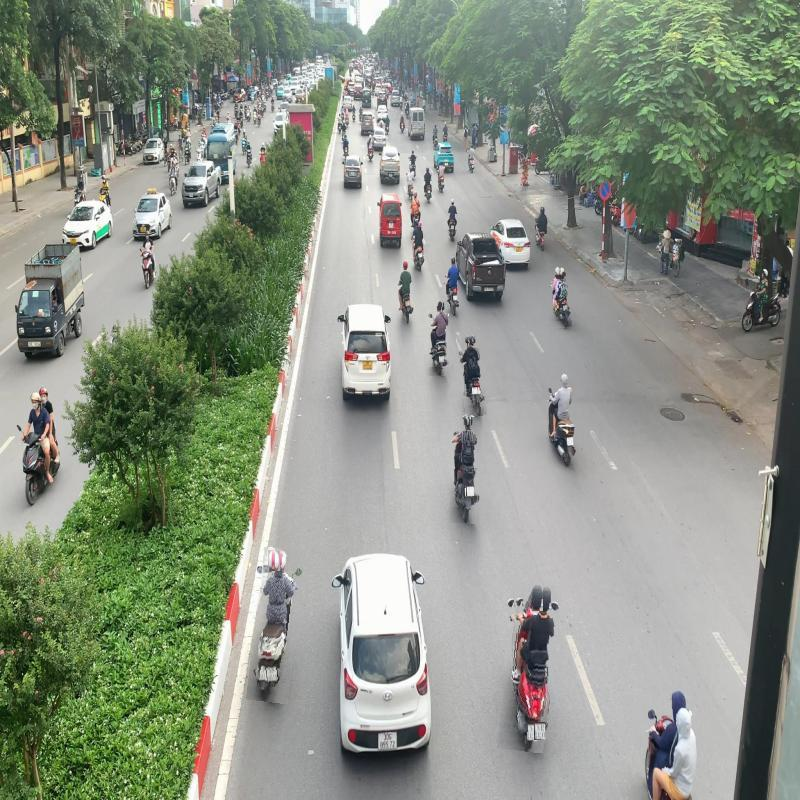helmet: (530, 585, 543, 611), (268, 550, 280, 571), (462, 414, 472, 430), (469, 333, 476, 346), (559, 267, 564, 276)
licenseplate: (534, 722, 546, 740), (266, 665, 278, 682), (466, 486, 474, 496), (472, 387, 478, 395), (439, 356, 446, 362)
motorcyclist: (501, 581, 558, 752), (251, 548, 302, 704), (450, 414, 481, 524), (458, 332, 485, 416), (427, 300, 450, 376), (549, 265, 571, 328)
nohelmet: (437, 300, 443, 312), (561, 271, 566, 279)
